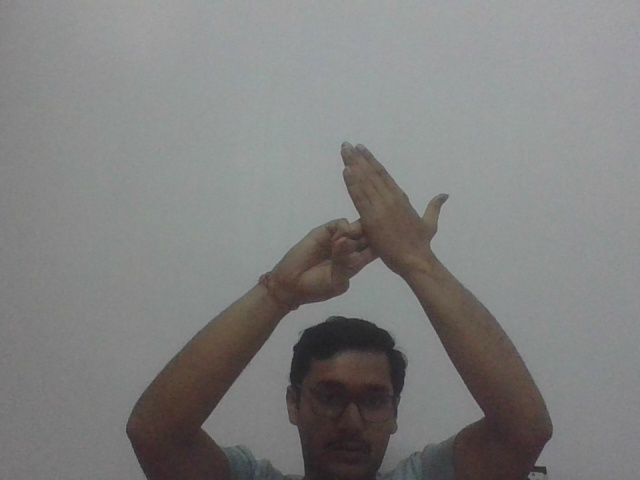M: (280, 137, 451, 307)
